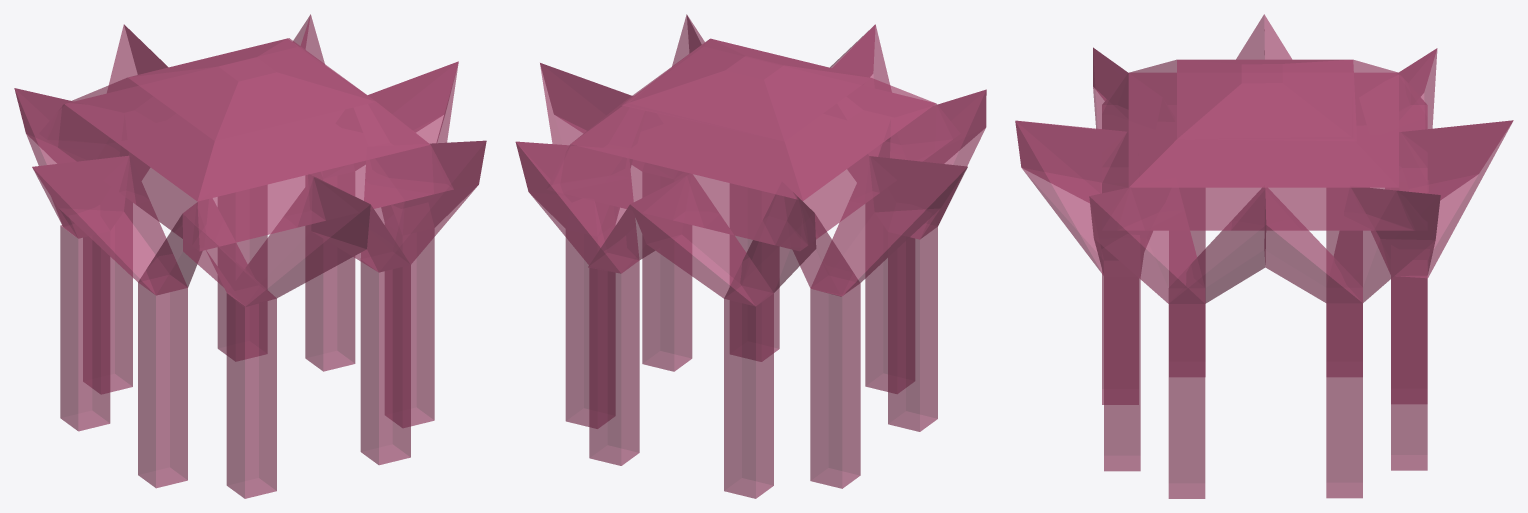
The model's file is SM_Bld_Gazebo_01_Collision.fbx.
3 renders of one model, left to right at view 1: azimuth 30°, elevation 25°; view 2: azimuth 150°, elevation 25°; view 3: azimuth 270°, elevation 25°, orthographic.
Parts seen in each view (by area): view 1: SM_Bld_Gazebo_01_Collision; view 2: SM_Bld_Gazebo_01_Collision; view 3: SM_Bld_Gazebo_01_Collision.
Part boxes in pixels (bbox=[...]): SM_Bld_Gazebo_01_Collision: bbox=[14, 14, 486, 498]; SM_Bld_Gazebo_01_Collision: bbox=[515, 14, 986, 498]; SM_Bld_Gazebo_01_Collision: bbox=[1015, 14, 1513, 498].
Bounding box in the file's own units: 534 × 420 × 533.
